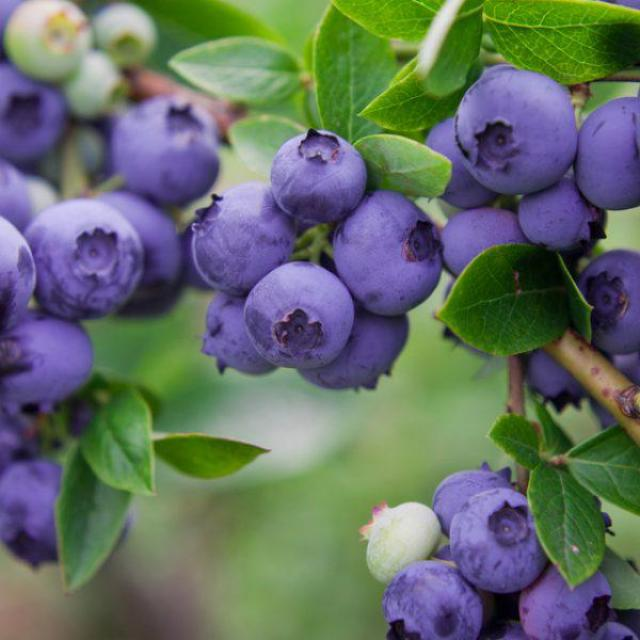BlueBerry - v1: (448, 56, 589, 202), (315, 179, 451, 323), (16, 190, 154, 324), (106, 86, 232, 212), (242, 248, 364, 378), (184, 177, 306, 302), (261, 117, 382, 238), (448, 478, 560, 603), (0, 298, 109, 416), (506, 542, 620, 640), (191, 272, 289, 385), (0, 442, 81, 578), (373, 550, 492, 640), (351, 491, 453, 593), (0, 53, 82, 178), (0, 0, 107, 91), (569, 84, 640, 221), (565, 245, 640, 366), (506, 175, 616, 255), (429, 191, 535, 274), (420, 449, 521, 533), (514, 335, 600, 424), (0, 208, 49, 324)
